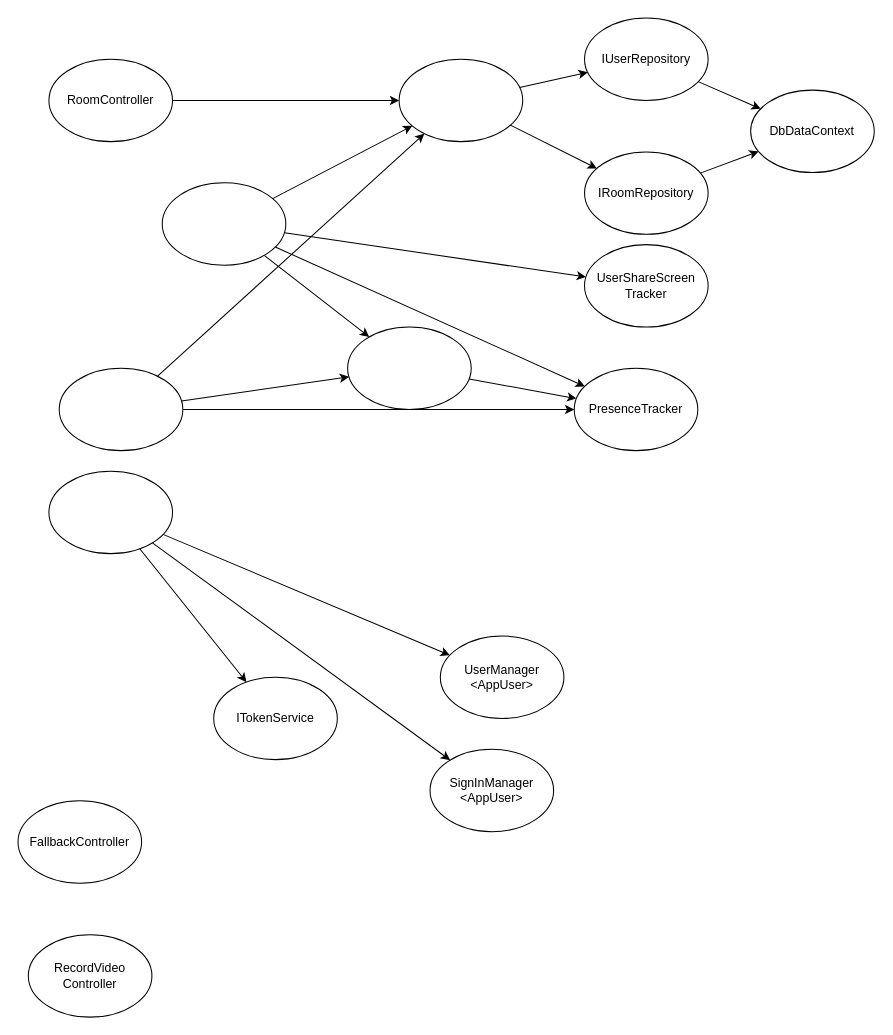
Some shapes in this 893 by 1035 pixel diagram are drawn without their labels. Each missing label, with the centre of its shape:
"AccountController" goes at point 110,512.
"ChatHub" goes at point 223,223.
"IUnitOfWork" goes at point 460,100.
"MemberController" goes at point 120,409.
"PresenceHub" goes at point 409,367.
